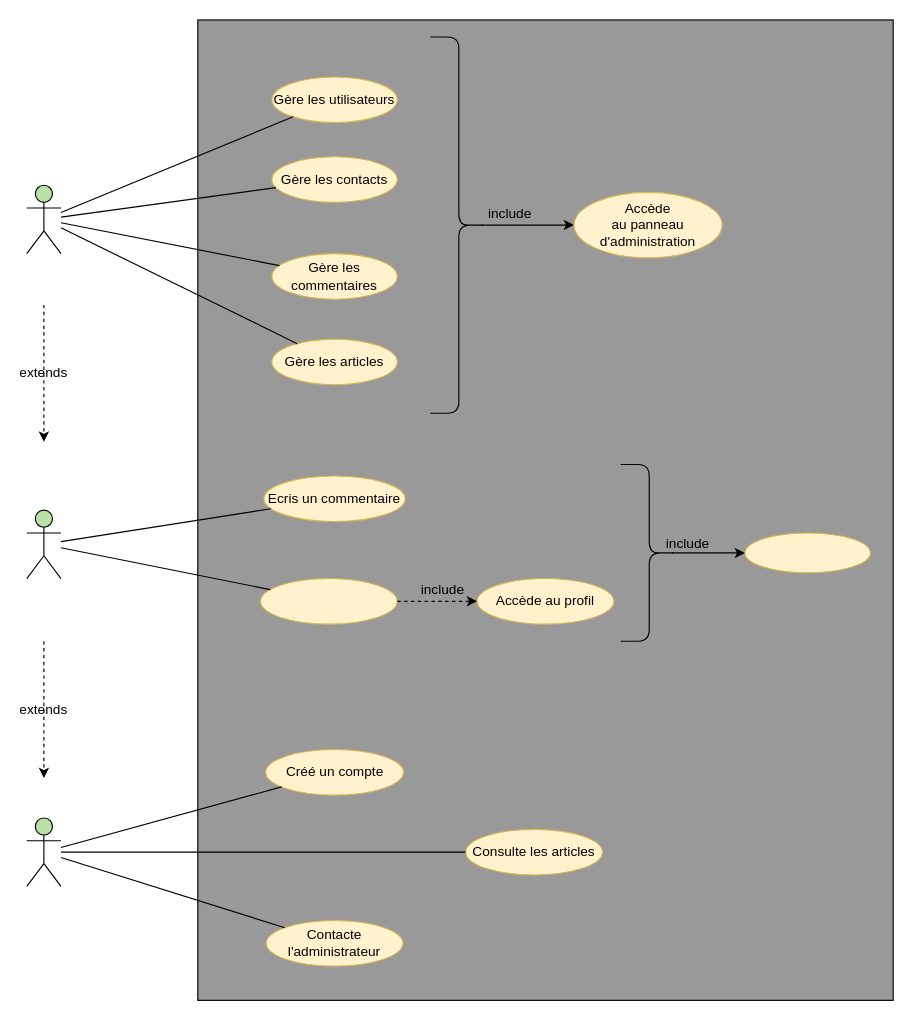
This 913x1020 diagram has some shape labels left out. Each missing label, with the centre of its shape:
Admin: pixel 43 219
Gère son compte: pixel 328 600
Se connecte: pixel 807 552
User: pixel 43 544
Visitor: pixel 43 851
